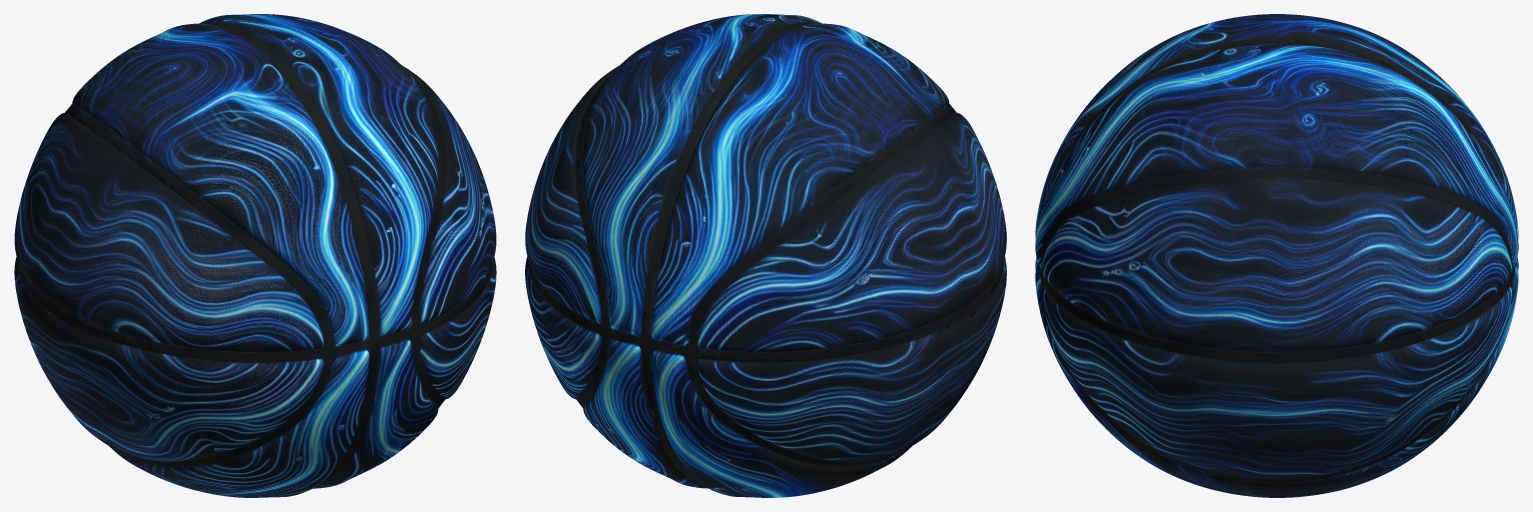
The model's file is basketball-blu.glb.
3 renders of one model, left to right at view 1: azimuth 30°, elevation 25°; view 2: azimuth 150°, elevation 25°; view 3: azimuth 270°, elevation 25°, orthographic.
Visible parts, largest first — view 1: node_0; view 2: node_0; view 3: node_0.
Part boxes in pixels (x1,y1,x2,y2): node_0: (14,14,496,497); node_0: (525,14,1006,497); node_0: (1035,14,1518,497).
Bounding box in the file's own units: 1.19 × 1.19 × 1.19.
1 material, 1 textured.
